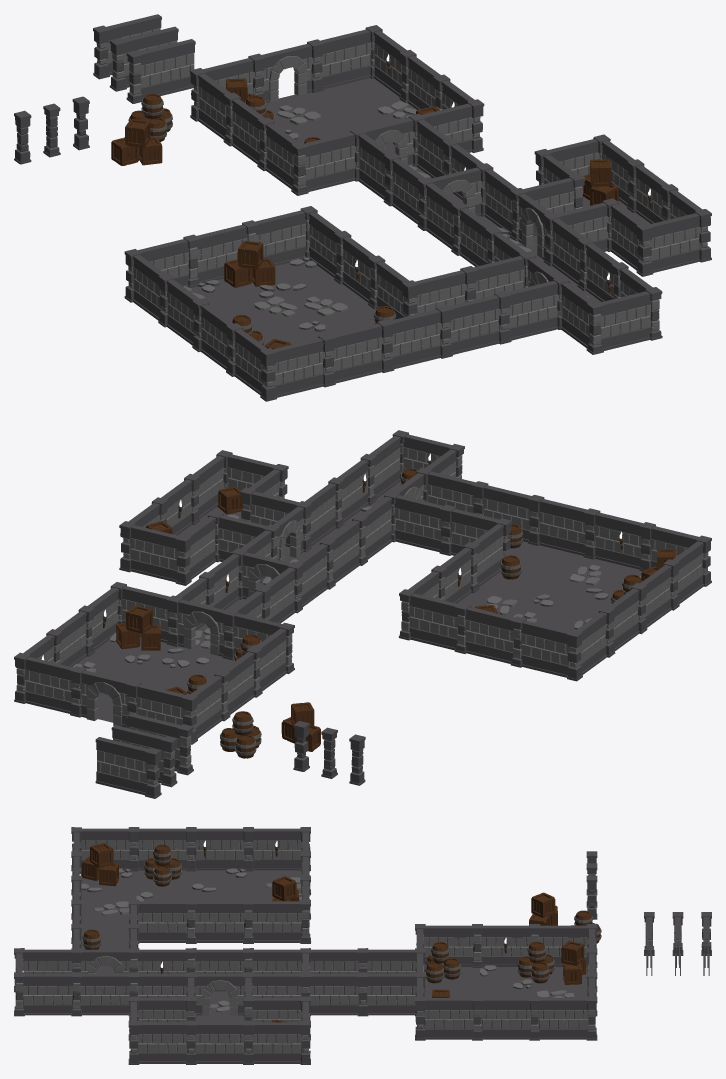
The model's file is escape.fbx.
3 views of the same model, one above another, from view 1: azimuth 30°, elevation 25°; view 2: azimuth 150°, elevation 25°; view 3: azimuth 270°, elevation 25° (orthographic). The views are drawn at different scales.
Visible parts, largest first — view 1: Cube.004, Cube.052, Cube.065, Cube.061, Cube.008, Cube.059, Cube.063, Cube.064, Cube.014, Cube.058, Cube.007, Cube.072 (+62 smaller); view 2: Cube.006, Cube.060, Cube.071, Cube.008, Cube.063, Cube.048, Cube.072, Cube.070, Cube.064, Cube.013, Cube.007, Cube.061 (+60 smaller); view 3: Cube.051, Cube.009, Cube.011, Cube.049, Cube.055, Cube.050, Cube.073, Cube.074, Cube.010, Cube.020, Cube.054, Cube.068 (+48 smaller).
Boxes of the visible parts, x1=… form: Cube.004: x1=126, y1=39, x2=195, y2=103; Cube.052: x1=636, y1=213, x2=701, y2=276; Cube.065: x1=260, y1=338, x2=325, y2=401; Cube.061: x1=435, y1=295, x2=500, y2=358; Cube.008: x1=307, y1=29, x2=371, y2=92; Cube.059: x1=494, y1=281, x2=559, y2=344; Cube.063: x1=377, y1=309, x2=442, y2=372; Cube.064: x1=318, y1=323, x2=383, y2=387; Cube.014: x1=304, y1=128, x2=366, y2=191; Cube.058: x1=600, y1=291, x2=651, y2=350; Cube.007: x1=248, y1=43, x2=313, y2=103; Cube.072: x1=255, y1=206, x2=317, y2=266; Cube.006: x1=95, y1=737, x2=161, y2=798; Cube.060: x1=394, y1=495, x2=456, y2=555; Cube.071: x1=454, y1=603, x2=514, y2=663; Cube.008: x1=24, y1=657, x2=86, y2=717; Cube.063: x1=538, y1=499, x2=600, y2=559; Cube.048: x1=119, y1=521, x2=179, y2=582; Cube.072: x1=398, y1=589, x2=458, y2=650; Cube.070: x1=510, y1=616, x2=570, y2=677; Cube.064: x1=593, y1=512, x2=655, y2=571; Cube.013: x1=166, y1=595, x2=226, y2=656; Cube.007: x1=80, y1=670, x2=142, y2=728; Cube.061: x1=482, y1=485, x2=544, y2=545; Cube.051: x1=128, y1=1020, x2=188, y2=1064; Cube.009: x1=538, y1=996, x2=597, y2=1040; Cube.011: x1=423, y1=996, x2=482, y2=1040; Cube.049: x1=243, y1=1020, x2=302, y2=1064; Cube.055: x1=14, y1=972, x2=72, y2=1016; Cube.050: x1=186, y1=1020, x2=245, y2=1064; Cube.073: x1=243, y1=899, x2=301, y2=943; Cube.074: x1=185, y1=899, x2=244, y2=943; Cube.010: x1=481, y1=996, x2=539, y2=1040; Cube.020: x1=357, y1=972, x2=416, y2=1016; Cube.054: x1=71, y1=972, x2=130, y2=1016; Cube.068: x1=194, y1=827, x2=253, y2=871.
Bounding box in the file's own units: 3275 × 322 × 4876.
